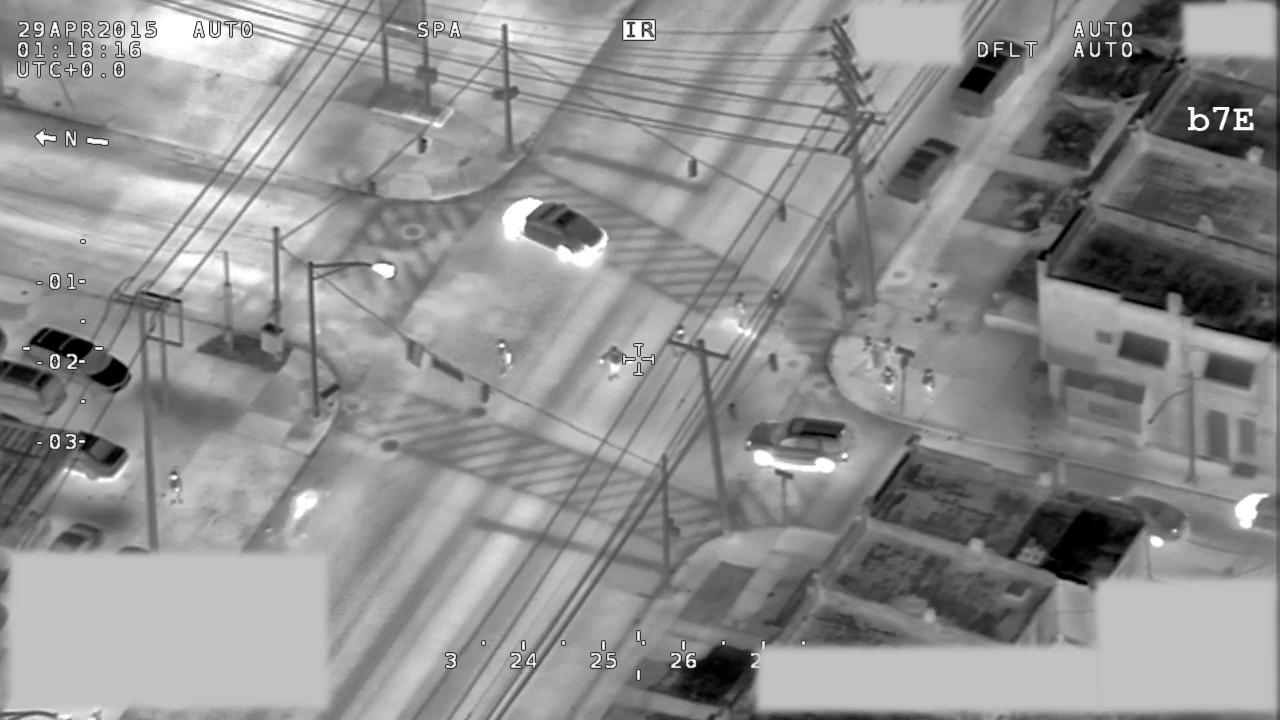vehicle: (23, 325, 133, 397), (501, 195, 609, 267), (739, 413, 854, 475), (949, 37, 1030, 121), (885, 136, 960, 211), (1104, 489, 1191, 547), (1, 357, 71, 419), (61, 427, 132, 484), (1232, 486, 1280, 530), (49, 520, 105, 554)
